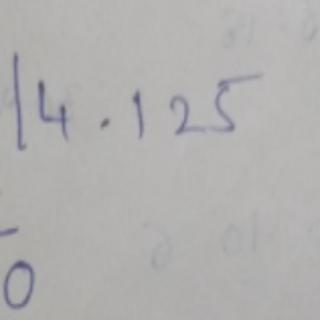.: (92, 113, 114, 134)
0: (2, 260, 37, 310)
1: (124, 88, 148, 136)
2: (170, 97, 197, 137)
4: (36, 80, 74, 145)
5: (212, 75, 260, 134)
